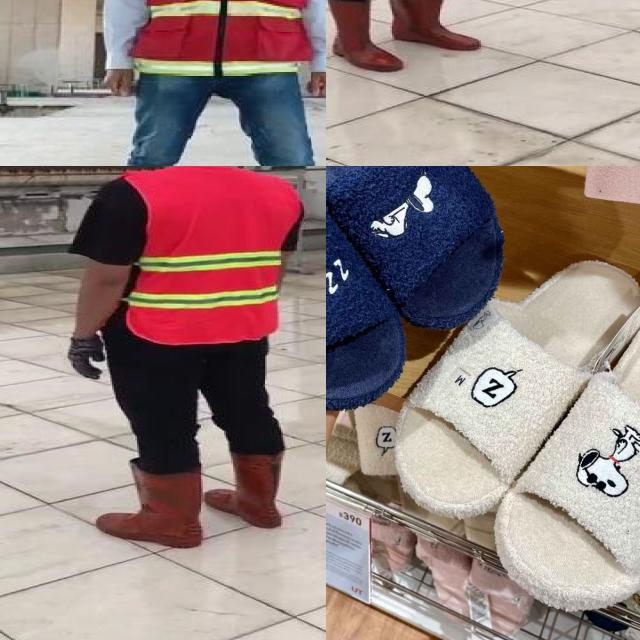Sandals: (367, 218, 640, 627), (326, 166, 528, 433)
boots: (92, 460, 207, 550), (209, 446, 294, 530), (329, 0, 402, 76), (386, 0, 484, 54)
hand_glove: (65, 336, 109, 379)
hand_noglove: (100, 60, 142, 106), (297, 64, 326, 98)
person: (58, 166, 312, 552), (100, 0, 326, 166), (326, 0, 491, 73)
vest: (116, 166, 304, 343), (108, 0, 326, 91)
